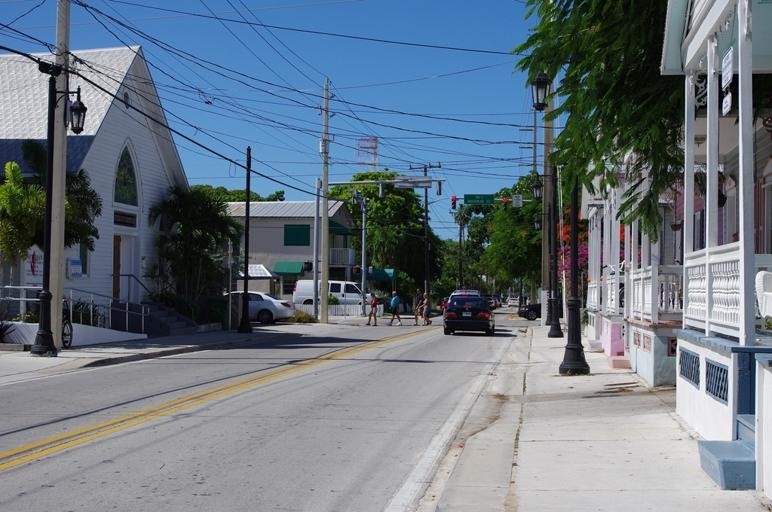non-vehicle: (599, 259, 624, 307), (59, 297, 73, 347)
